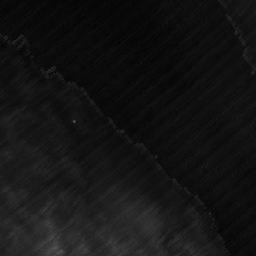Target: (71, 118, 77, 123)
